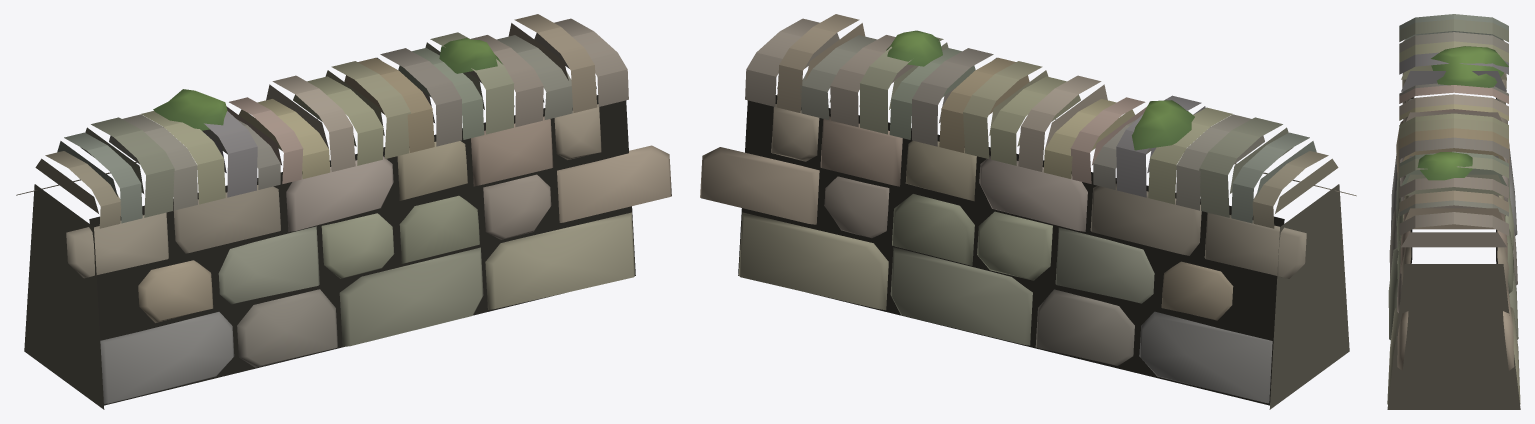
Rendered from wall_drystone.glb.
3 views of the same model, side by side, from view 1: azimuth 30°, elevation 25°; view 2: azimuth 150°, elevation 25°; view 3: azimuth 270°, elevation 25° (orthographic). The views are drawn at different scales.
Visible parts, largest first — view 1: wall_drystone_LOD0; view 2: wall_drystone_LOD0; view 3: wall_drystone_LOD0.
Boxes of the visible parts, left/top/right/bottom form: wall_drystone_LOD0: left=16, top=14, right=671, bottom=409; wall_drystone_LOD0: left=700, top=14, right=1356, bottom=409; wall_drystone_LOD0: left=1387, top=14, right=1520, bottom=409.
Size of what is drawn, in the model's own units: 2.68 by 1.03 by 0.6206.
